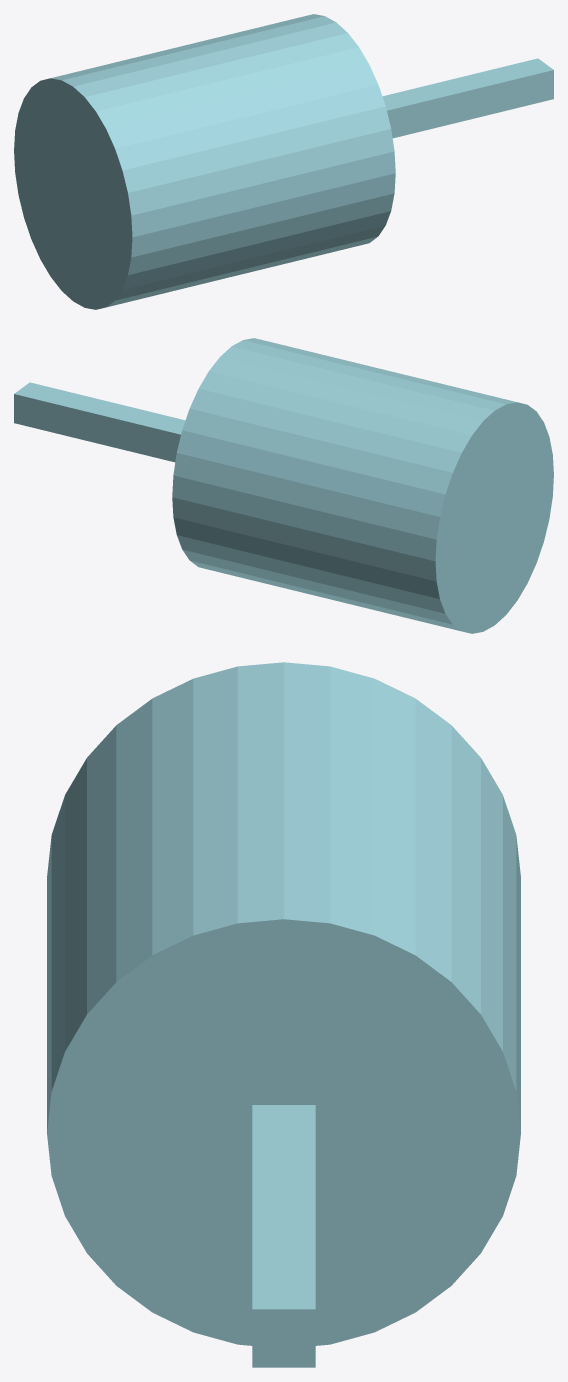
File: cylinder_screwdriver_v3014.obj
3 renders of one model, top to bottom at view 1: azimuth 30°, elevation 25°; view 2: azimuth 150°, elevation 25°; view 3: azimuth 270°, elevation 25°, orthographic. The views are drawn at different scales.
Size of the model in its own units: 0.1796 by 0.0779 by 0.0779.
Materials: 1 (1 with a texture image).
